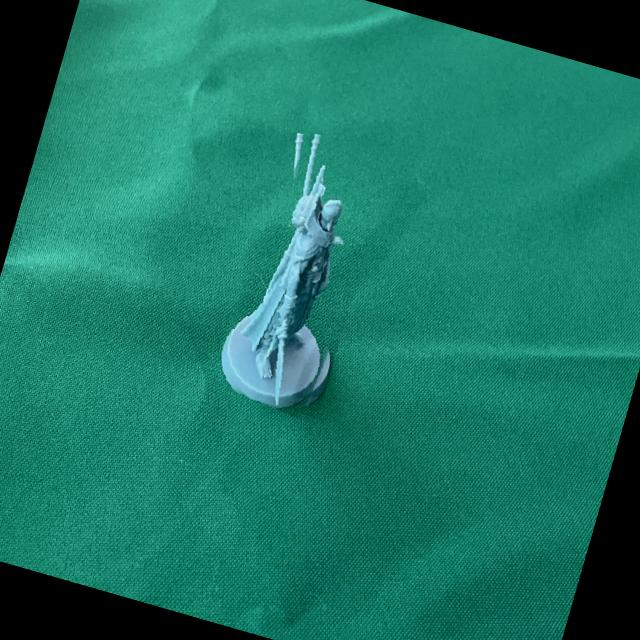isis_follower: (210, 126, 400, 422)
